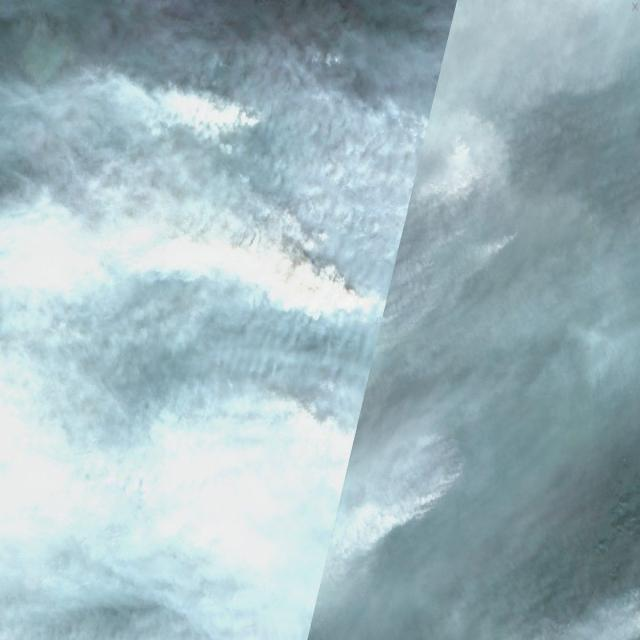fire: (266, 104, 532, 320), (372, 413, 472, 528), (335, 49, 355, 73)
